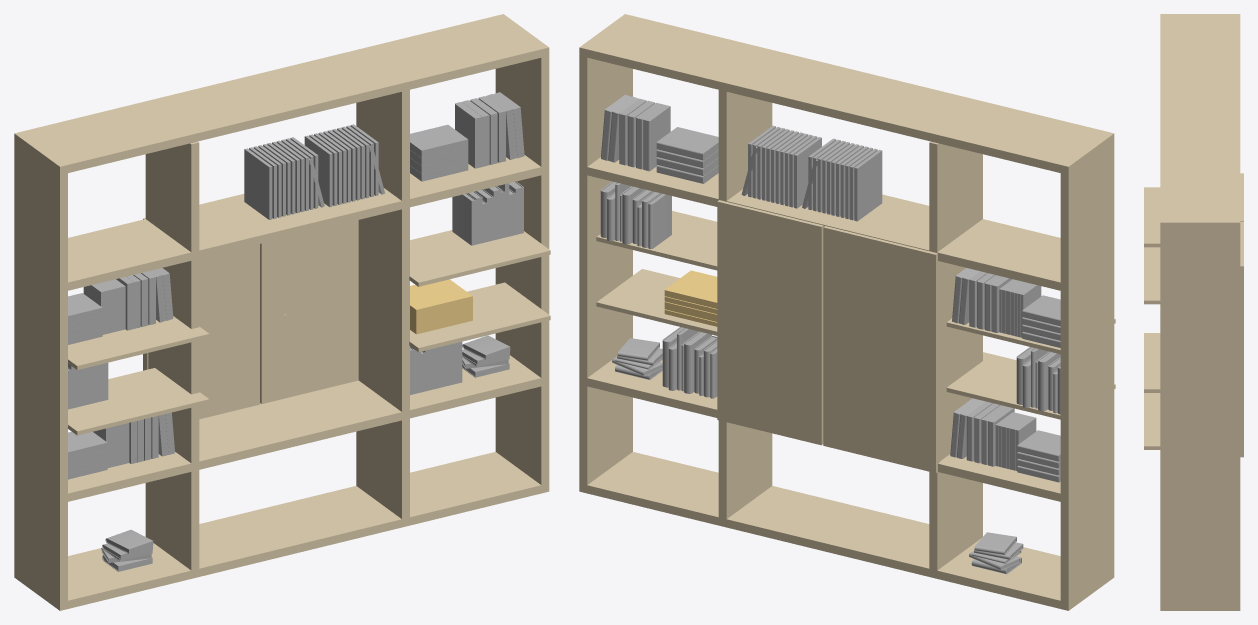
Rendered from librerofinal.fbx.
3 views of the same model, side by side, from view 1: azimuth 30°, elevation 25°; view 2: azimuth 150°, elevation 25°; view 3: azimuth 270°, elevation 25° (orthographic). The views are drawn at different scales.
Visible parts, largest first — view 1: books_obj_70; view 2: books_obj_70; view 3: books_obj_70.
Boxes of the visible parts, x1,y1,x2,y2 form: books_obj_70: [14, 14, 550, 610]; books_obj_70: [579, 14, 1115, 610]; books_obj_70: [1144, 14, 1243, 610].
Bounding box in the file's own units: 9728 × 8438 × 1965.
